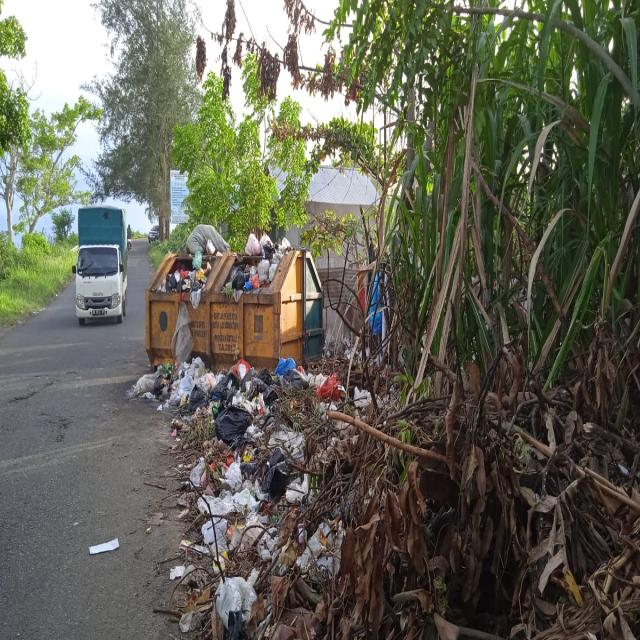trash: (130, 222, 381, 640)
